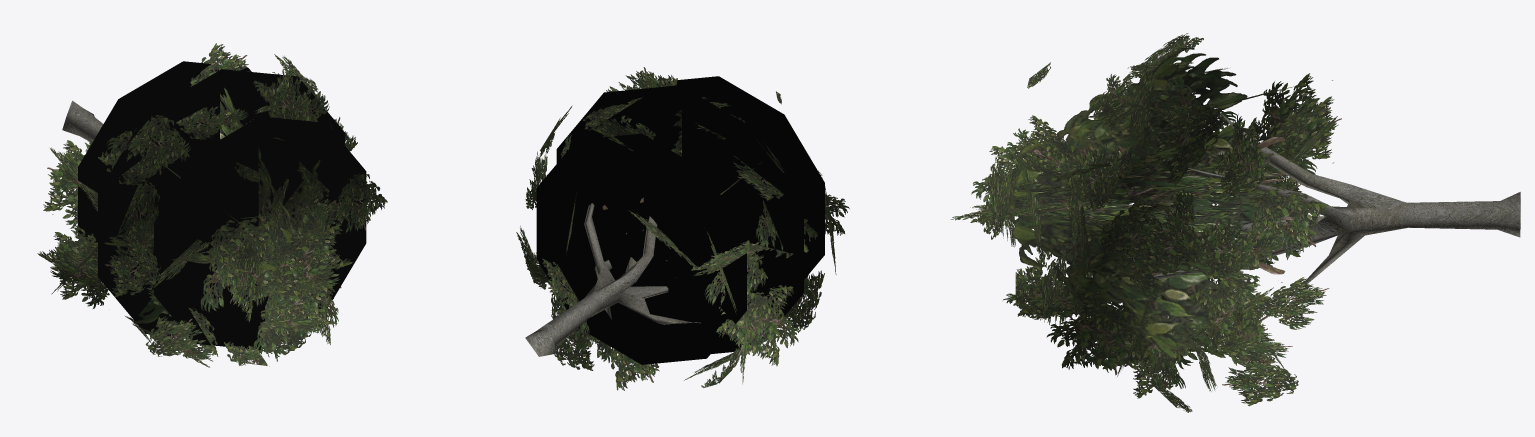
Rendered from nt_tree_ficus_lrg_01_LOD1.obj.
3 views of the same model, side by side, from view 1: azimuth 30°, elevation 25°; view 2: azimuth 150°, elevation 25°; view 3: azimuth 270°, elevation 25° (orthographic). The views are drawn at different scales.
Parts seen in each view (by area): view 1: mtl_p6_tree_ficus_lrg_01_foliage_noshadow, t5_foliage_tree_standard_gobo_128, mtl_p6_tree_ficus_lrg_01_bark1; view 2: t5_foliage_tree_standard_gobo_128, mtl_p6_tree_ficus_lrg_01_foliage_noshadow, mtl_p6_tree_ficus_lrg_01_bark1; view 3: mtl_p6_tree_ficus_lrg_01_foliage_noshadow, mtl_p6_tree_ficus_lrg_01_bark1.
Part boxes in pixels (x1,y1,x2,y2): mtl_p6_tree_ficus_lrg_01_foliage_noshadow: (37, 43, 387, 367); t5_foliage_tree_standard_gobo_128: (78, 61, 366, 349); mtl_p6_tree_ficus_lrg_01_bark1: (62, 100, 103, 141); t5_foliage_tree_standard_gobo_128: (536, 76, 824, 364); mtl_p6_tree_ficus_lrg_01_foliage_noshadow: (516, 67, 849, 390); mtl_p6_tree_ficus_lrg_01_bark1: (525, 203, 700, 356); mtl_p6_tree_ficus_lrg_01_foliage_noshadow: (950, 33, 1341, 412); mtl_p6_tree_ficus_lrg_01_bark1: (1144, 113, 1520, 300).
Size of the model in its own units: 1000 by 998 by 1385.
